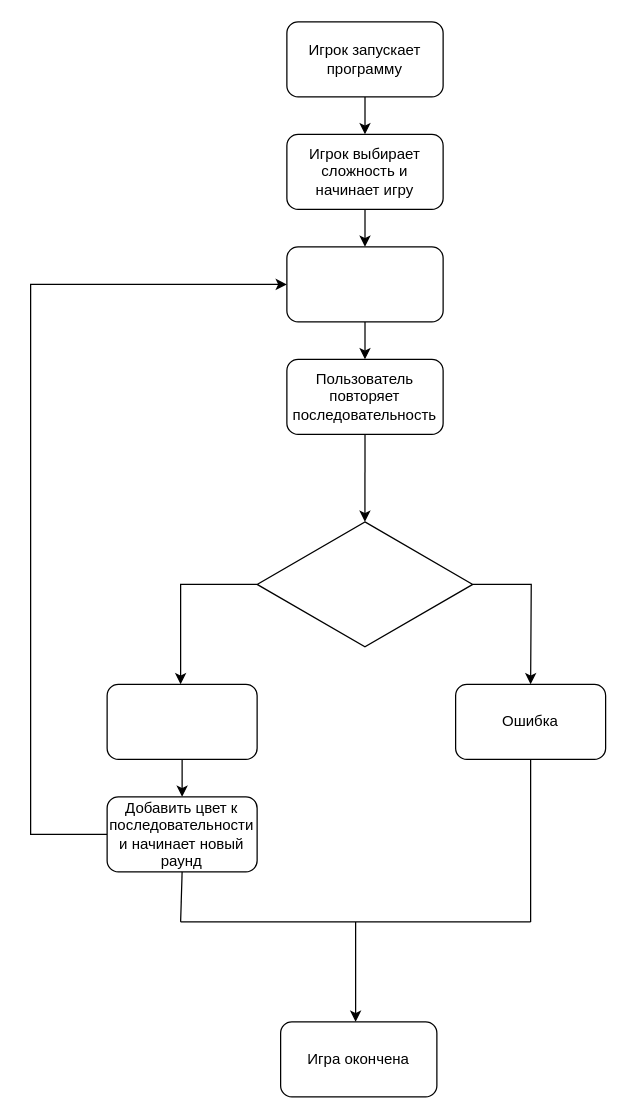
Some shapes in this 628 by 1119 pixel diagram are drawn without their labels. Each missing label, with the box of its shape:
Верно: (106, 683, 257, 759)
Проверка последовательности: (256, 521, 473, 647)
Программа выводит последовательность: (286, 246, 443, 322)
